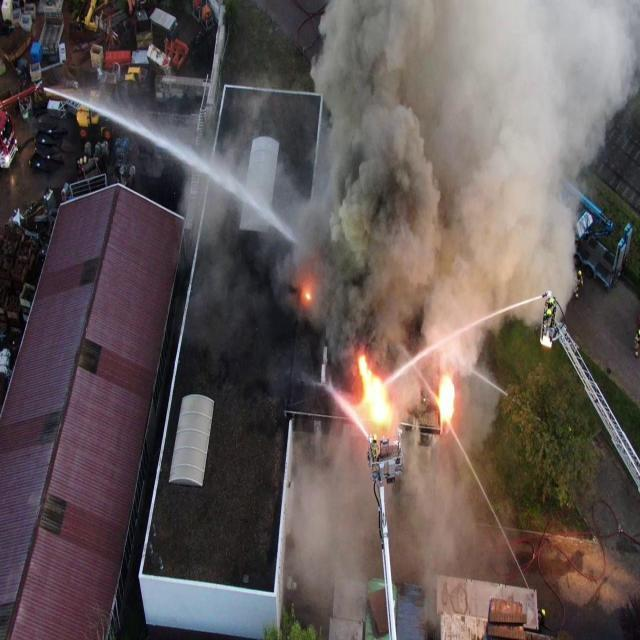Fire: (358, 356, 389, 424), (438, 374, 454, 434), (306, 292, 310, 299)
Smoke: (272, 0, 640, 609)
